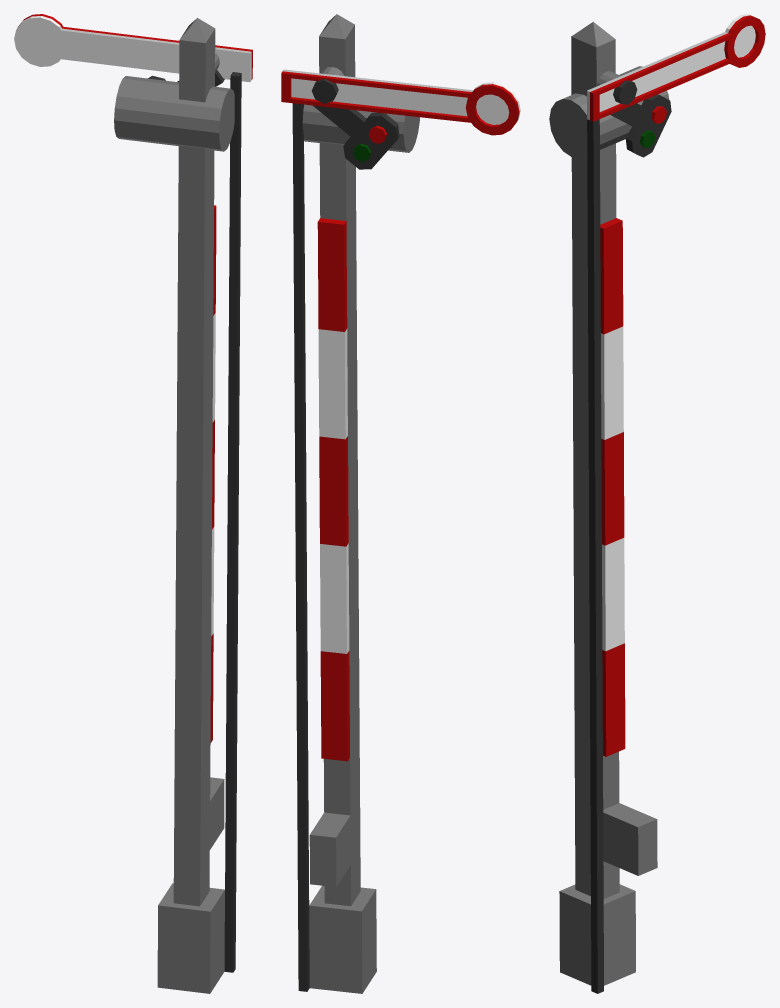
File: GMLID_1429491_351612_1485.dae
3 views of the same model, side by side, from view 1: azimuth 30°, elevation 25°; view 2: azimuth 210°, elevation 25°; view 3: azimuth 270°, elevation 25° (orthographic).
Size of the model in its own units: 2.36 by 2.89 by 14.04.
